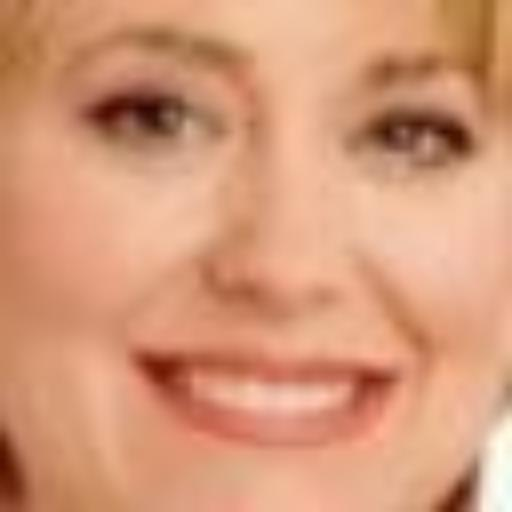left_eye: (336, 102, 480, 168)
left_lip_corner: (358, 358, 418, 404)
right_eye: (79, 83, 223, 153)
right_lip_corner: (126, 333, 184, 394)
